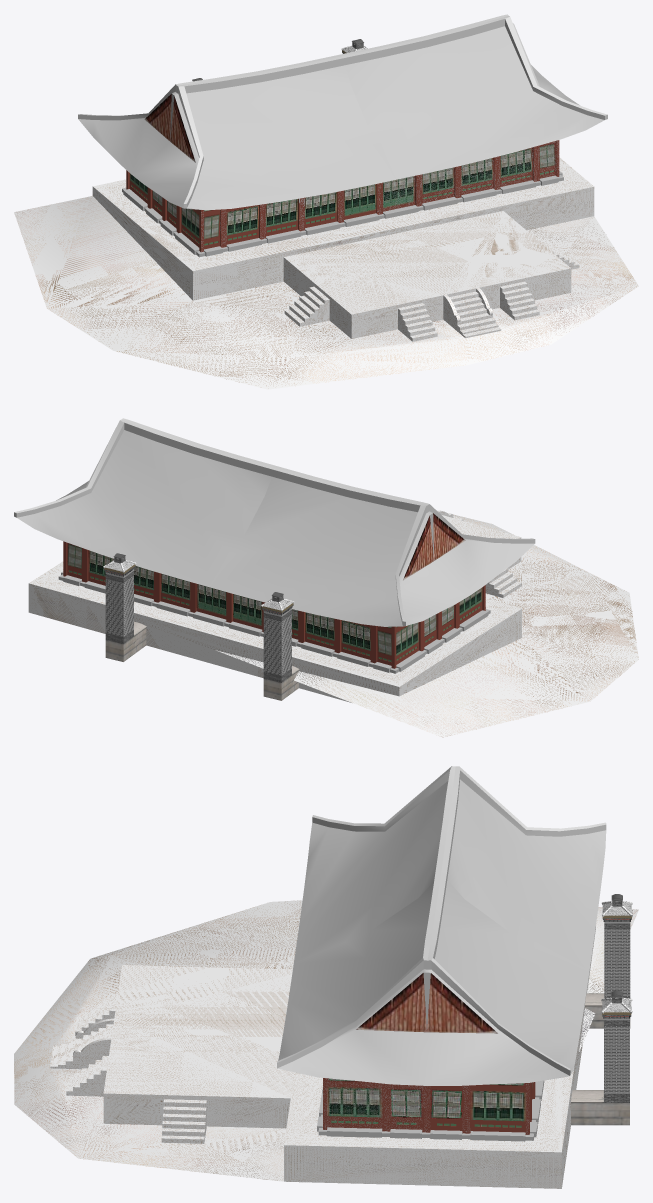
Rendered from 수정전.dae.
The picture shows the model from 3 angles, top to bottom: view 1: azimuth 30°, elevation 25°; view 2: azimuth 150°, elevation 25°; view 3: azimuth 270°, elevation 25°; orthographic projection. The views are drawn at different scales.
Visible parts, largest first — view 1: group_0 (×18), Component_1 (×5); view 2: group_0 (×14), Component_1 (×6), Component_19 (×4); view 3: group_0 (×15), Component_1 (×6), Component_19 (×3).
Boxes of the visible parts, bbox=[...] form: group_0 (×18): bbox=[14, 26, 638, 389]; Component_1 (×5): bbox=[78, 16, 607, 208]; group_0 (×14): bbox=[17, 430, 638, 737]; Component_1 (×6): bbox=[14, 418, 535, 625]; Component_19 (×4): bbox=[105, 575, 298, 700]; group_0 (×15): bbox=[14, 779, 638, 1188]; Component_1 (×6): bbox=[277, 766, 606, 1075]; Component_19 (×3): bbox=[571, 929, 630, 1125].
Bounding box in the file's own units: 1598 × 1344 × 538.
